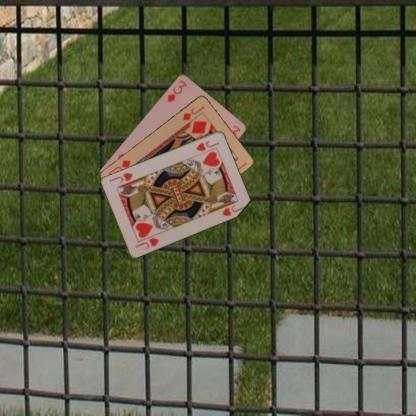3d: (165, 77, 188, 103)
Jd: (180, 103, 206, 121)
Jh: (132, 235, 160, 250), (194, 138, 221, 153)
